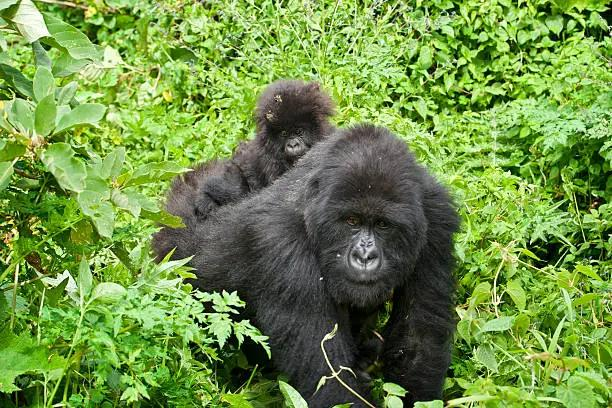goriile_montagne: (152, 127, 520, 408), (169, 48, 414, 177)
